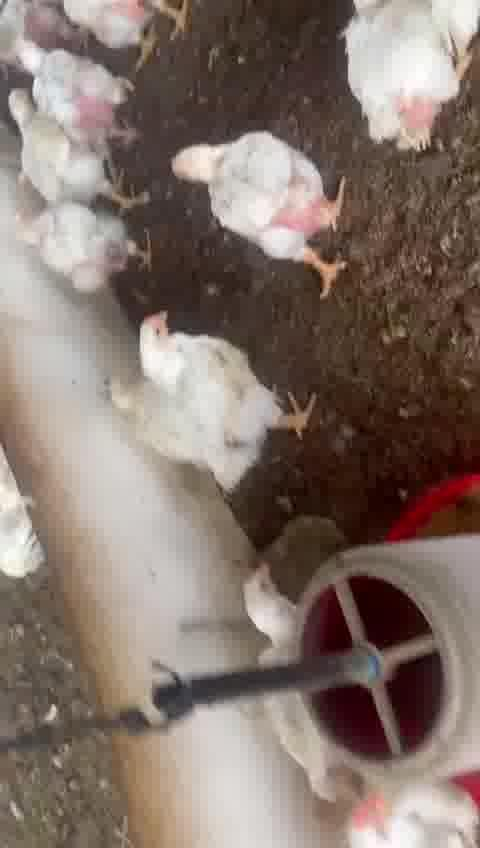Normal: (174, 132, 355, 288), (134, 305, 318, 445), (9, 90, 149, 213)
